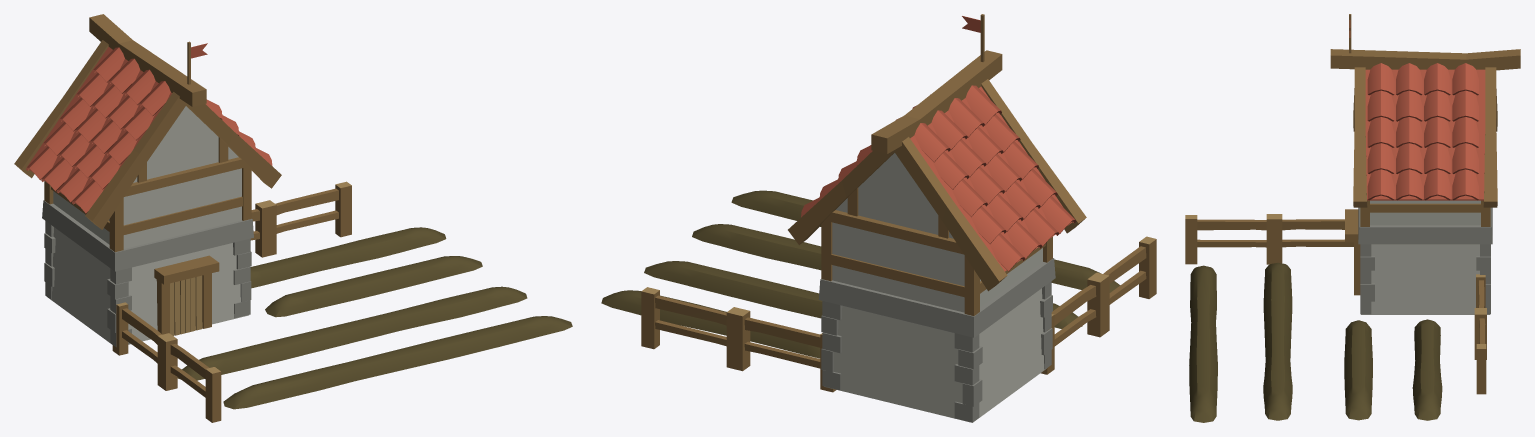
Rendered from Farm.glb.
3 renders of one model, left to right at view 1: azimuth 30°, elevation 25°; view 2: azimuth 150°, elevation 25°; view 3: azimuth 270°, elevation 25°, orthographic. The views are drawn at different scales.
Visible parts, largest first — view 1: Farm; view 2: Farm; view 3: Farm.
Part boxes in pixels (left/top/right/bottom): Farm: left=14, top=14, right=572, bottom=422; Farm: left=601, top=14, right=1156, bottom=422; Farm: left=1185, top=14, right=1520, bottom=422.
Size of the model in its own units: 1.83 by 1.31 by 1.45.
